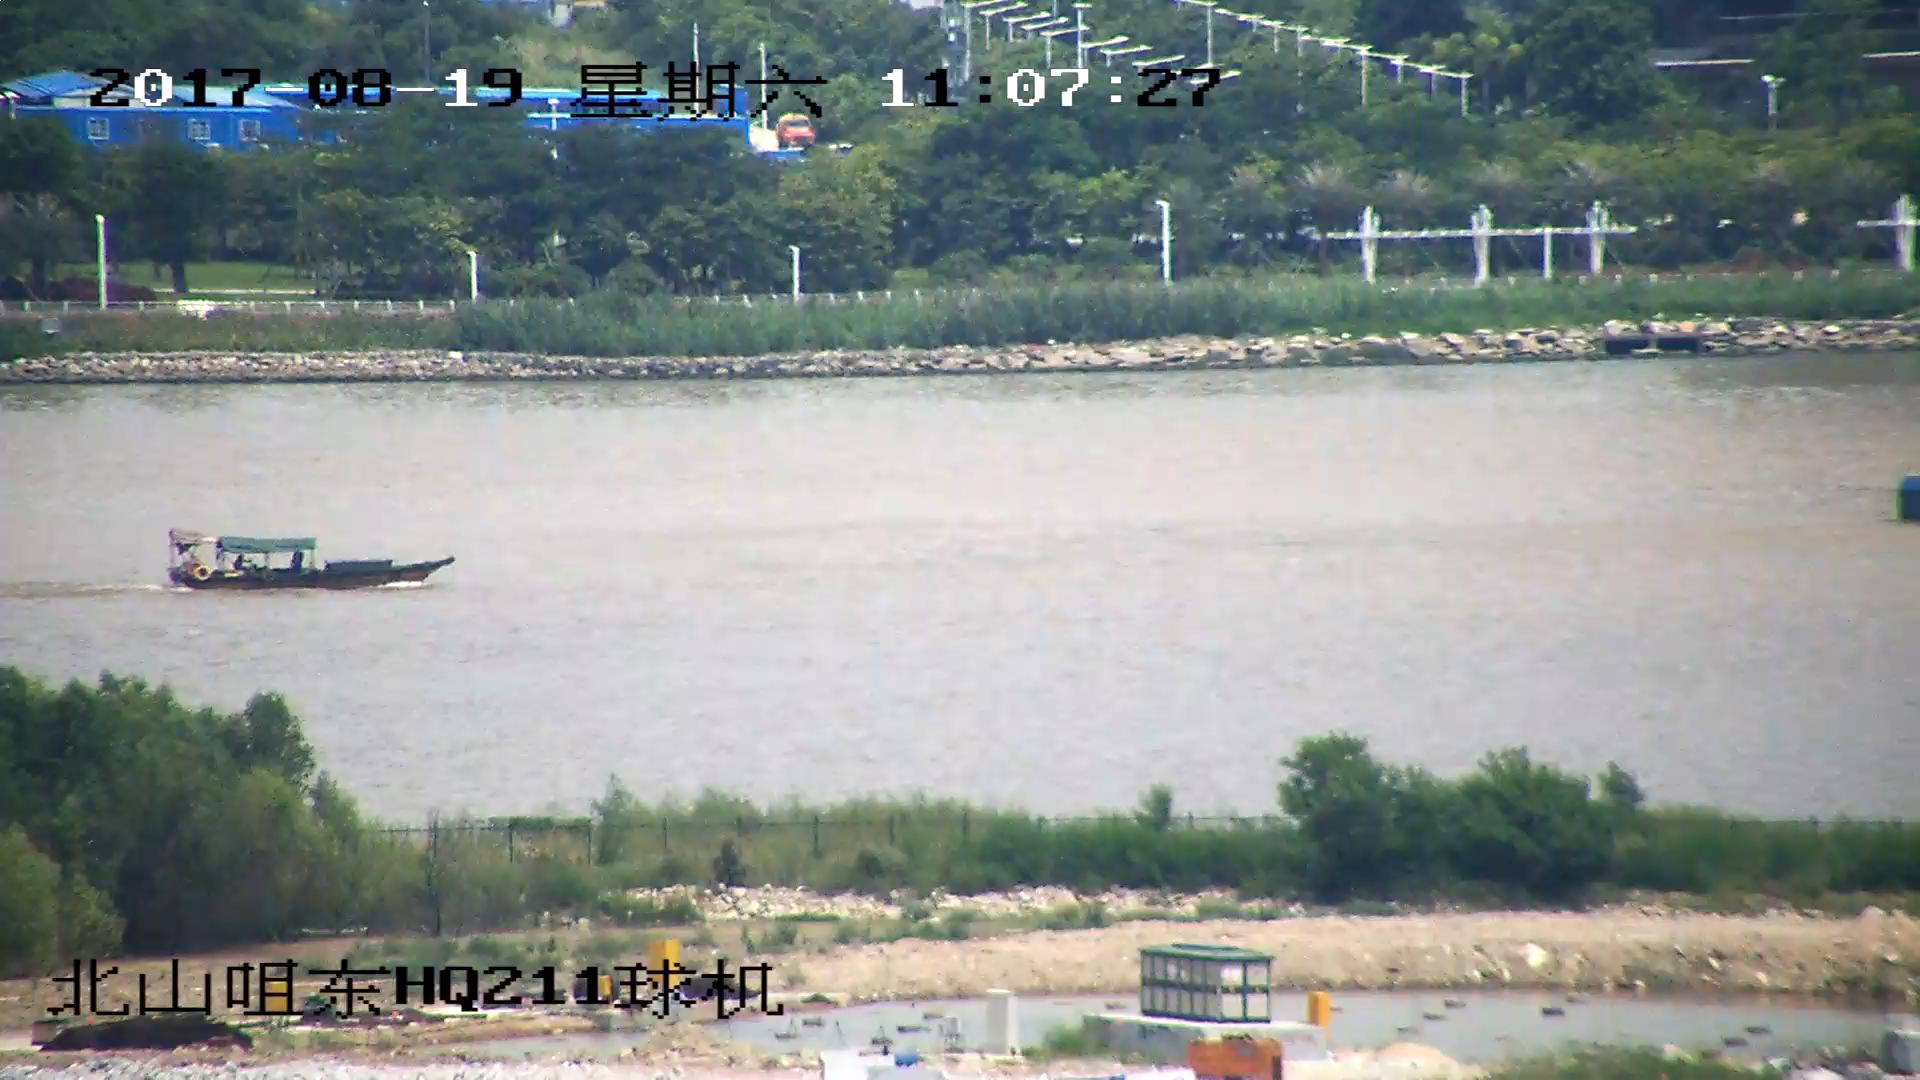fishing boat: (166, 529, 455, 594)
